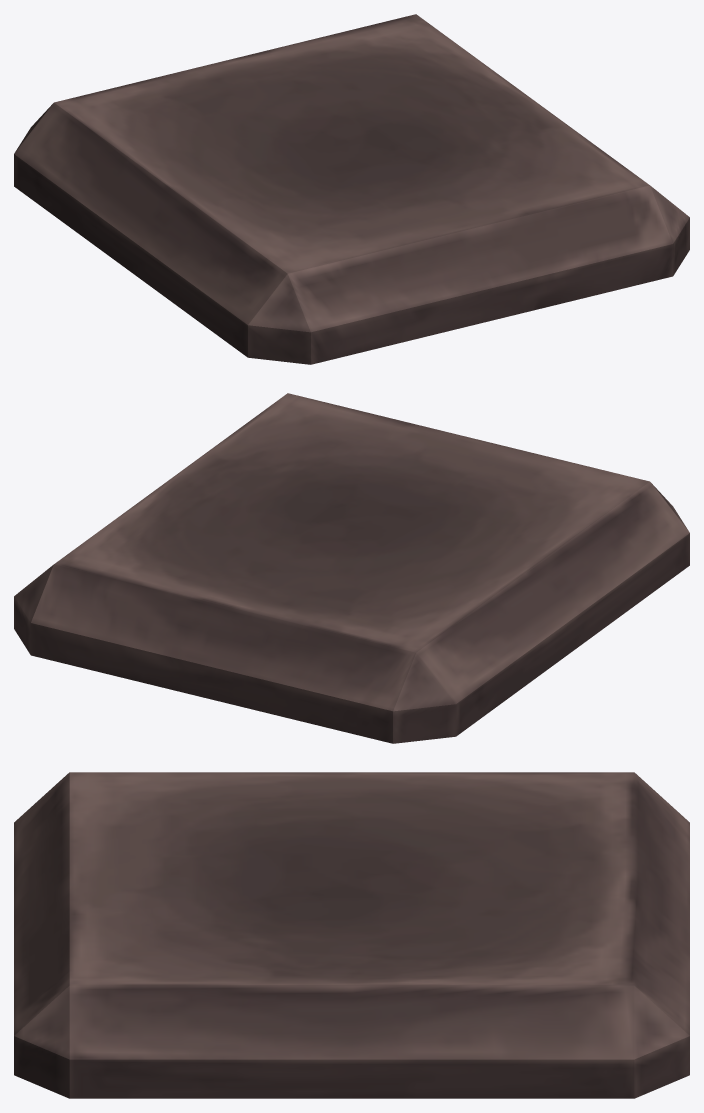
File: rock_12.fbx
The picture shows the model from 3 angles, top to bottom: view 1: azimuth 30°, elevation 25°; view 2: azimuth 150°, elevation 25°; view 3: azimuth 270°, elevation 25°; orthographic projection. The views are drawn at different scales.
Visible parts, largest first — view 1: rock_12; view 2: rock_12; view 3: rock_12.
Boxes of the visible parts, x1,y1,x2,y2 form: rock_12: (14, 14, 689, 364); rock_12: (14, 393, 689, 743); rock_12: (14, 772, 689, 1098).
Size of the model in its own units: 0.7864 by 0.1262 by 0.8627.
